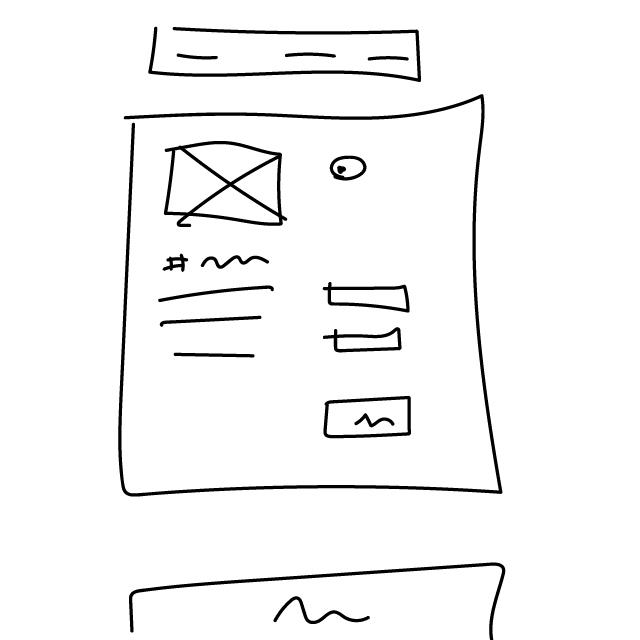buttonrotation: (319, 393, 418, 441)
checkboxrotation: (328, 154, 372, 186)
containerrotation: (115, 91, 525, 514)
footerrotation: (117, 560, 516, 640)
framerotation: (162, 135, 295, 234)
headingrotation: (161, 250, 277, 280)
inputrotation: (321, 278, 416, 319), (323, 327, 411, 357)
navrotation: (150, 20, 425, 85)
textrotation: (157, 282, 283, 368)
